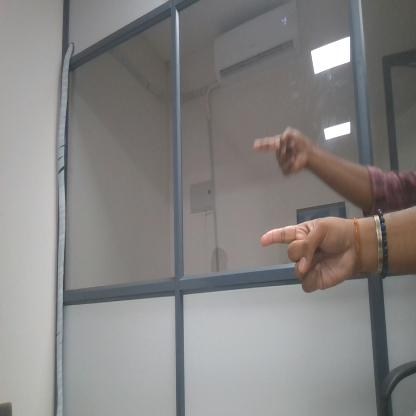Right: (246, 212, 354, 299), (248, 103, 308, 188)
